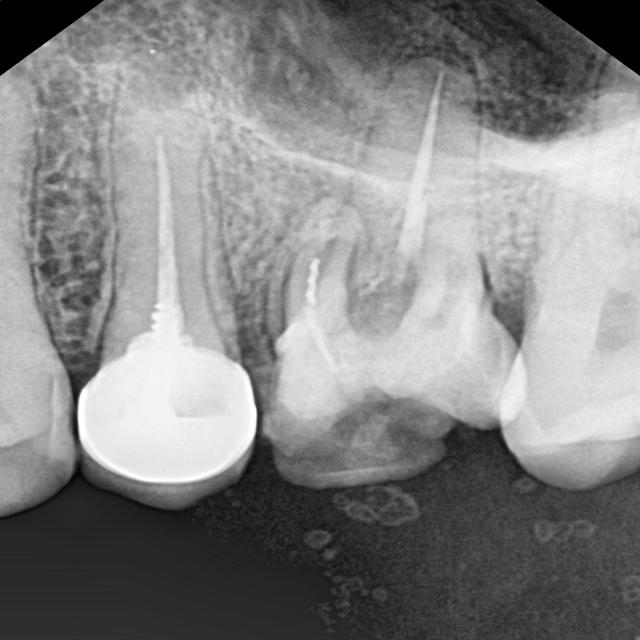Crown: (69, 340, 273, 494)
Post: (57, 92, 248, 361)
RCT: (341, 48, 471, 327)
